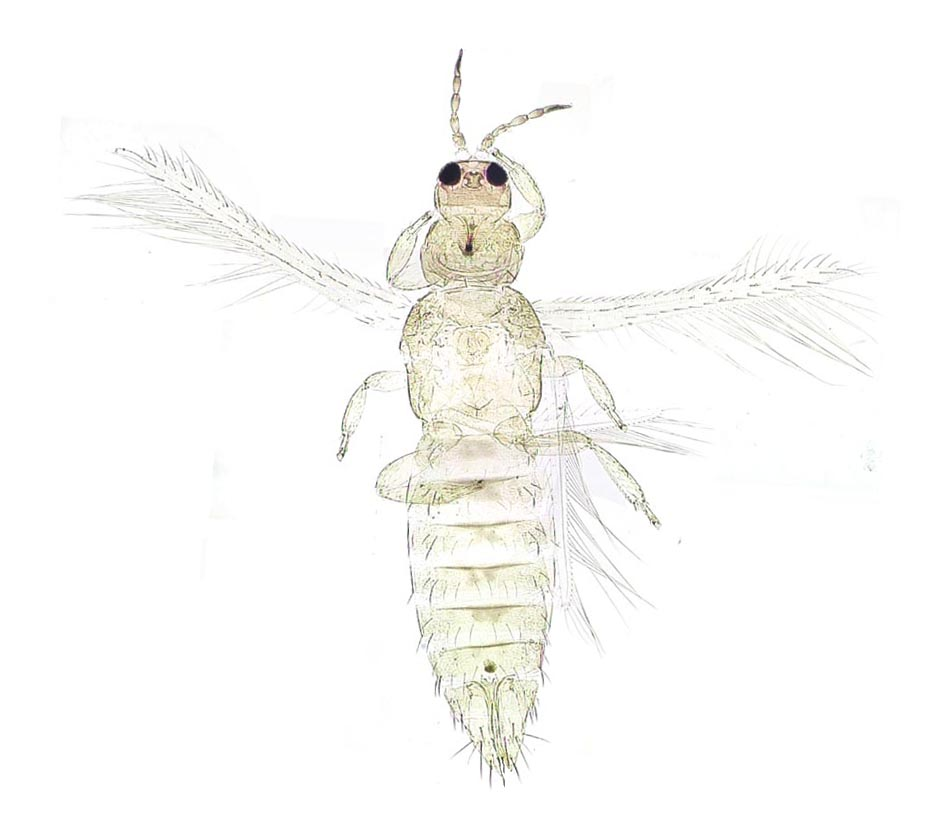Thripidae: (99, 45, 859, 791)
